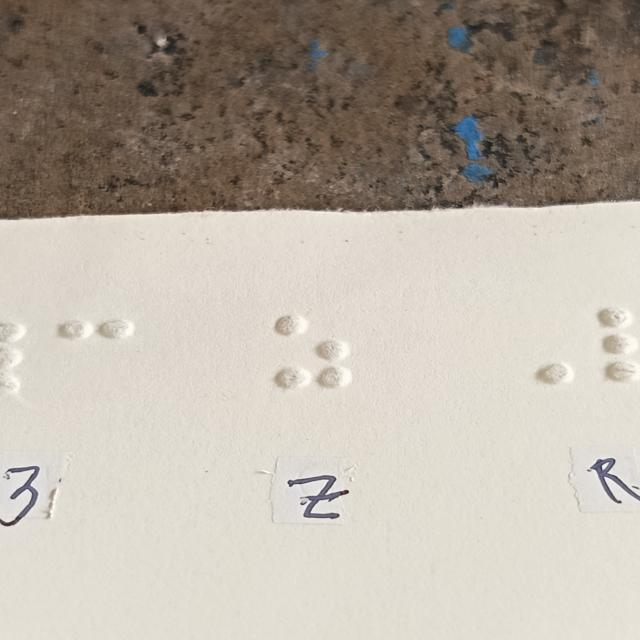letter_z: (274, 313, 349, 392)
